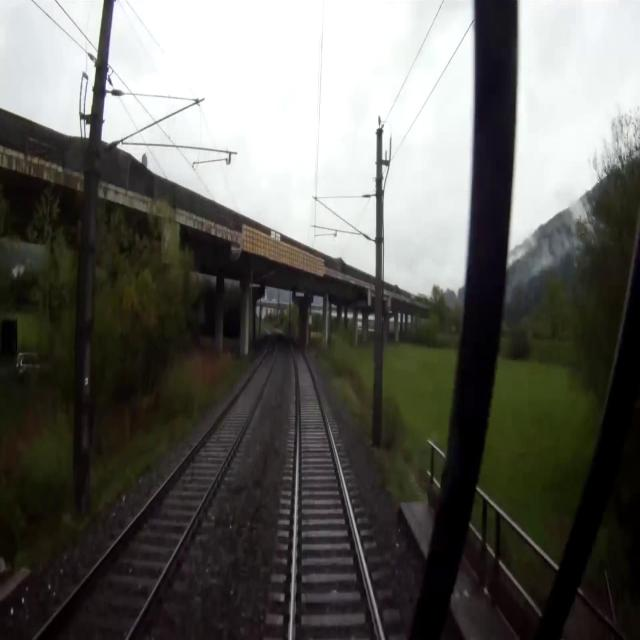rail-track: (39, 329, 274, 639), (291, 342, 380, 639)
